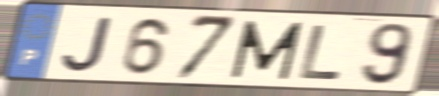6: (121, 15, 172, 78)
7: (172, 12, 240, 83)
9: (358, 21, 415, 87)
J: (59, 14, 117, 74)
L: (296, 22, 346, 82)
M: (228, 18, 306, 81)
